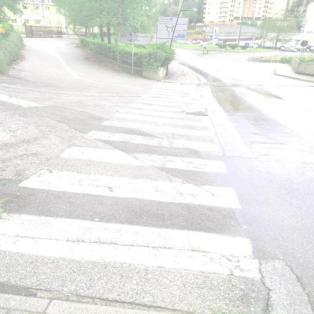Paso de Cebra: (0, 143, 259, 211), (110, 106, 216, 128)
